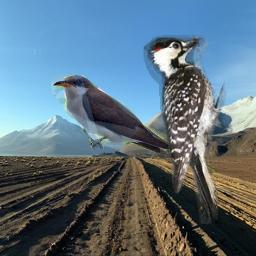Cuckoo: (51, 75, 215, 174)
Woodpecker: (141, 35, 231, 224)
